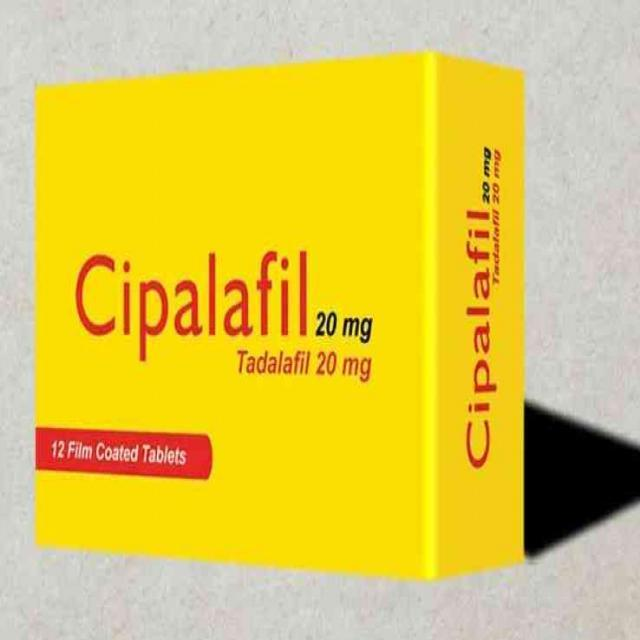drug-name: (64, 246, 312, 363)
